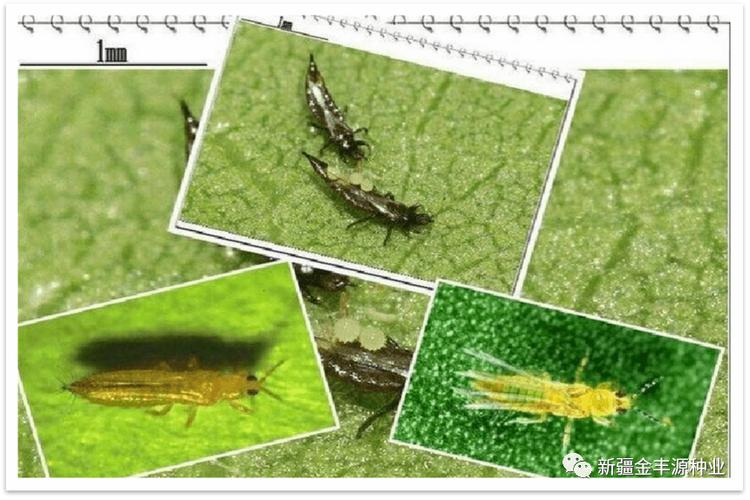Phlaeothripidae: (298, 150, 438, 252), (301, 49, 371, 164)
